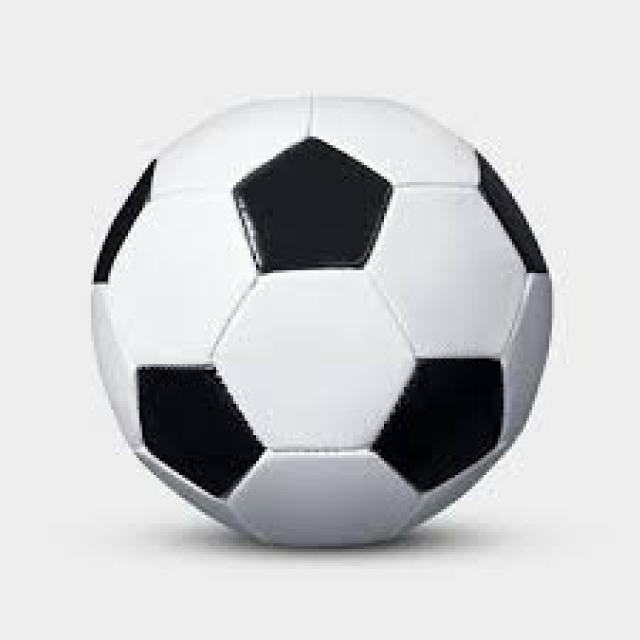football: (85, 85, 560, 558)
